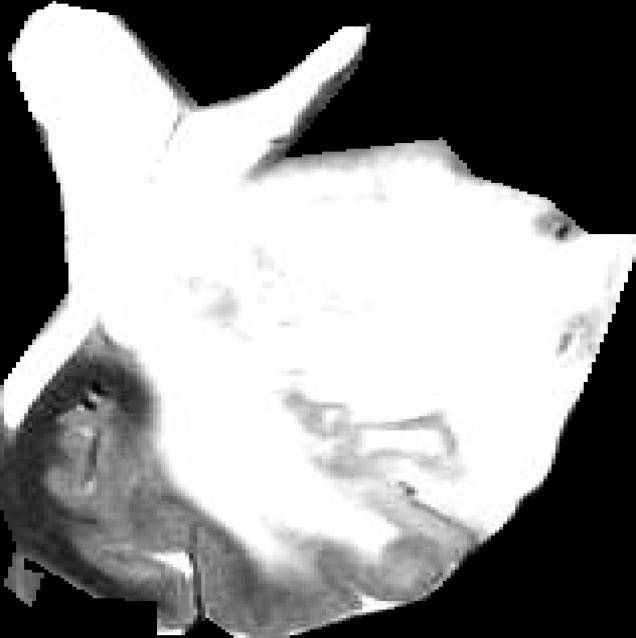tumor_moderate_chance: (0, 1, 636, 638)
